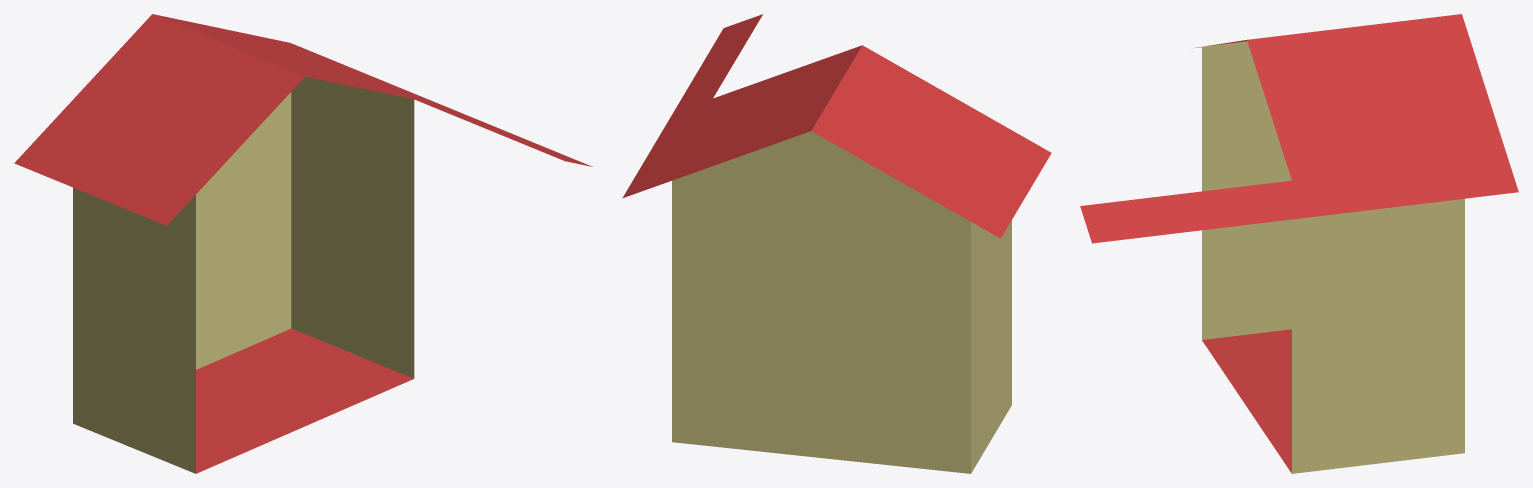
The picture shows the model from 3 angles, left to right: view 1: azimuth 30°, elevation 25°; view 2: azimuth 150°, elevation 25°; view 3: azimuth 270°, elevation 25°; orthographic projection. The views are drawn at different scales.
Bounding box in the file's own units: 8.96 × 7.52 × 6.95.
